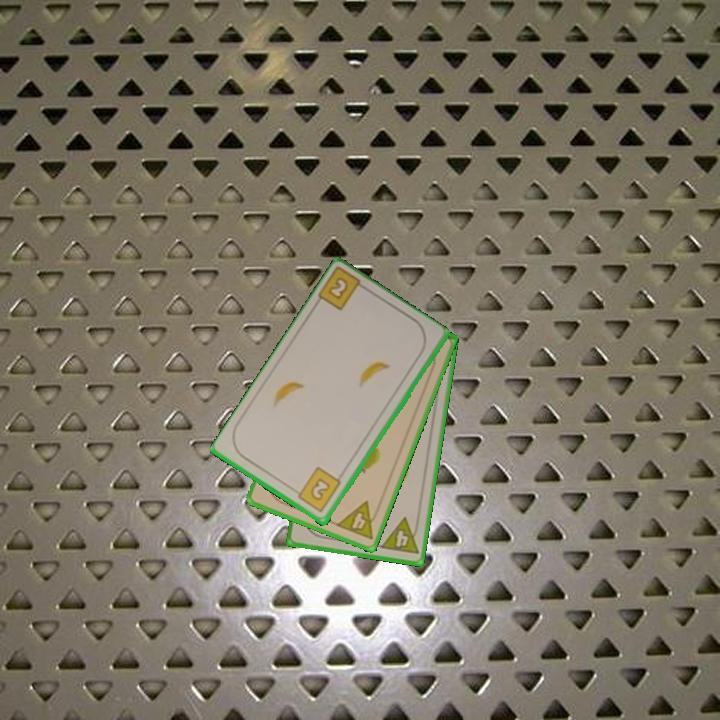2b: (315, 265, 372, 314), (291, 464, 344, 516)
4p: (332, 497, 383, 542), (377, 514, 423, 558)
